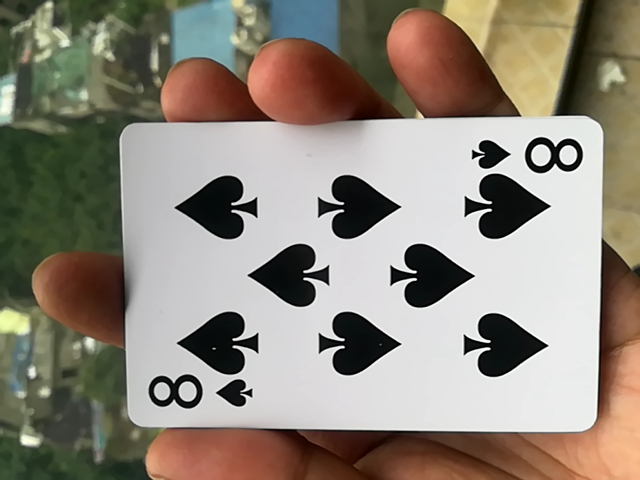ht 8: (107, 117, 590, 454)
